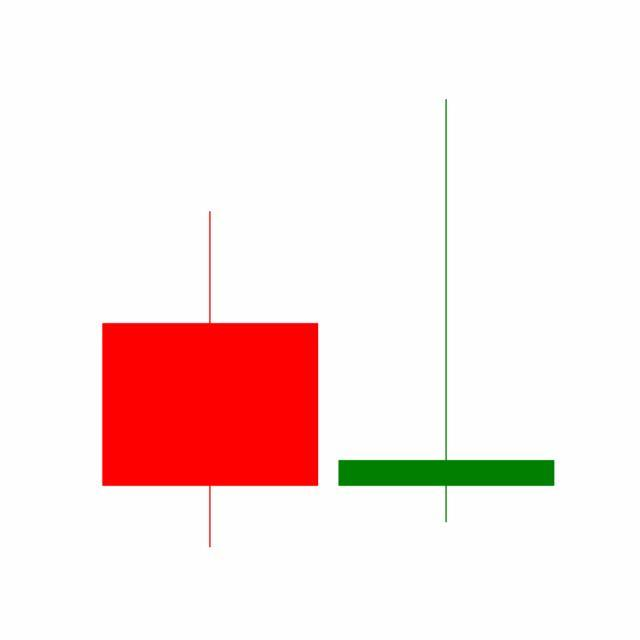Gravestone Doji: (328, 94, 566, 528)
